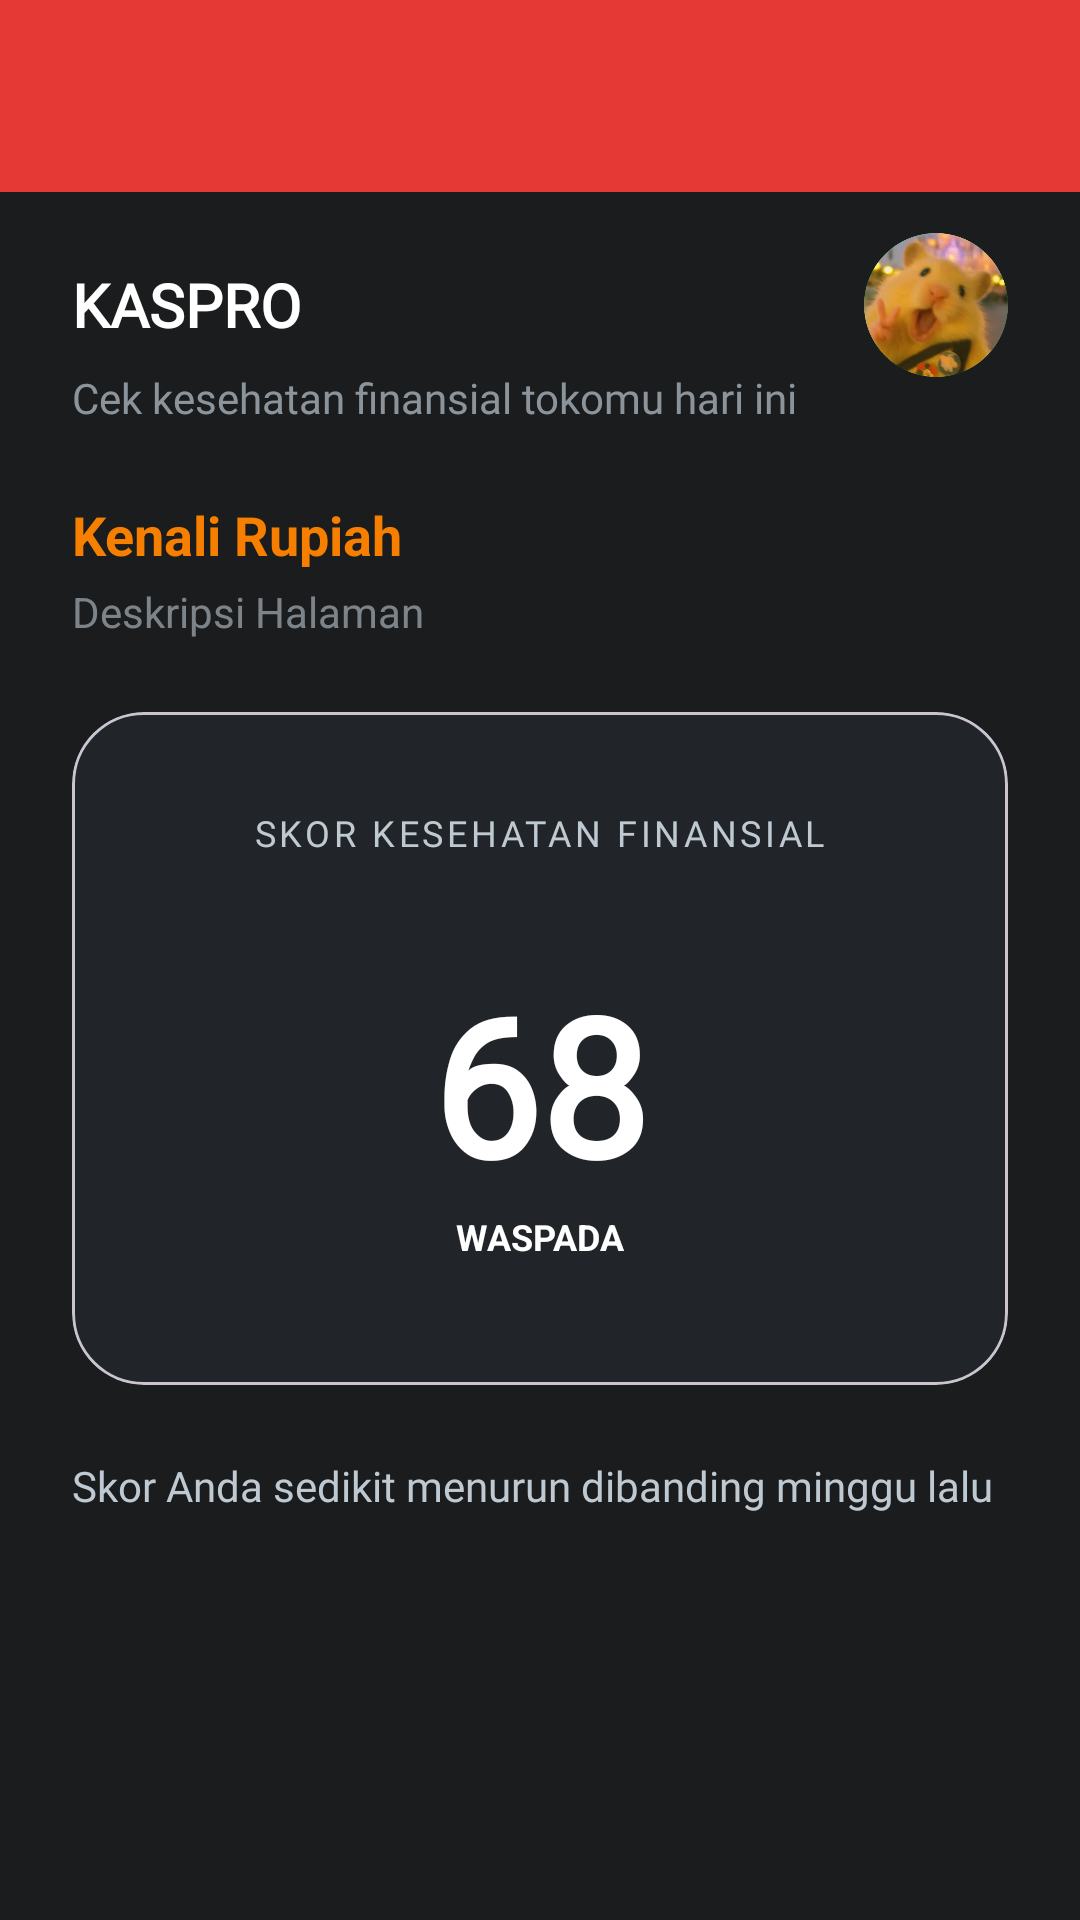

Locate icon controls on the screen. Image size 1080 × 1920, boxes as (x1, y1, x2, y2).
profil: (864, 233, 1008, 377)
